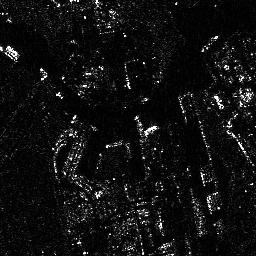ship: (5, 45, 20, 58)
